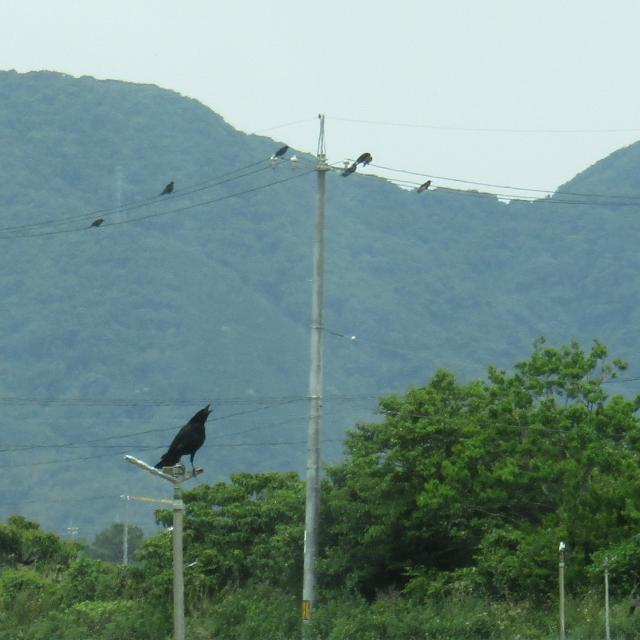pole: (264, 89, 390, 639)
